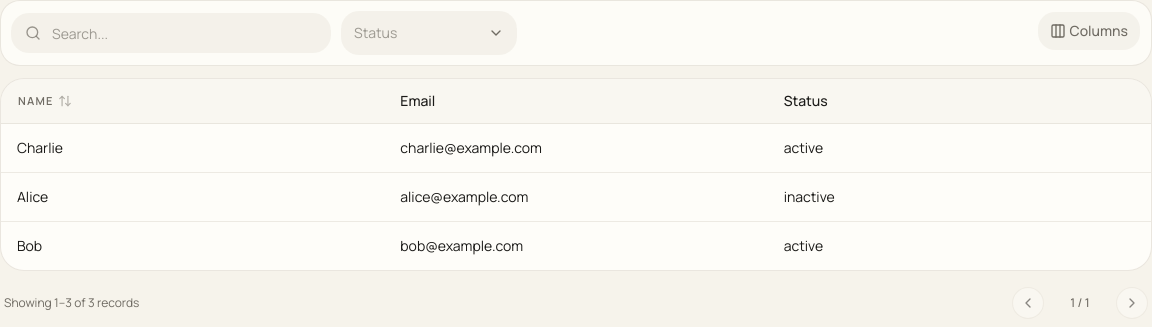
DataTable › filters rows with global search
This screenshot has width=1152, height=327.
Type "alice" into the field with placeholder "Search..." at (171, 33), box [11,13,331,53]
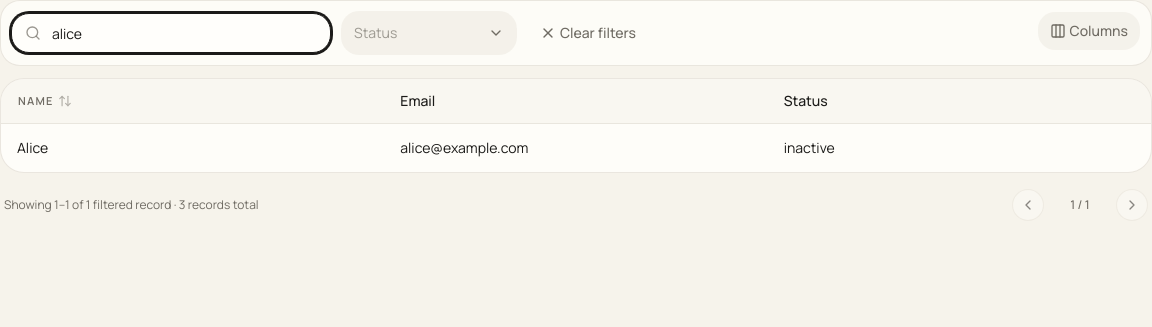
Expected: the text "Alice" is shown, [17,138,48,156]
Result: the text "Charlie" is gone
Result: the text "Bob" is gone
